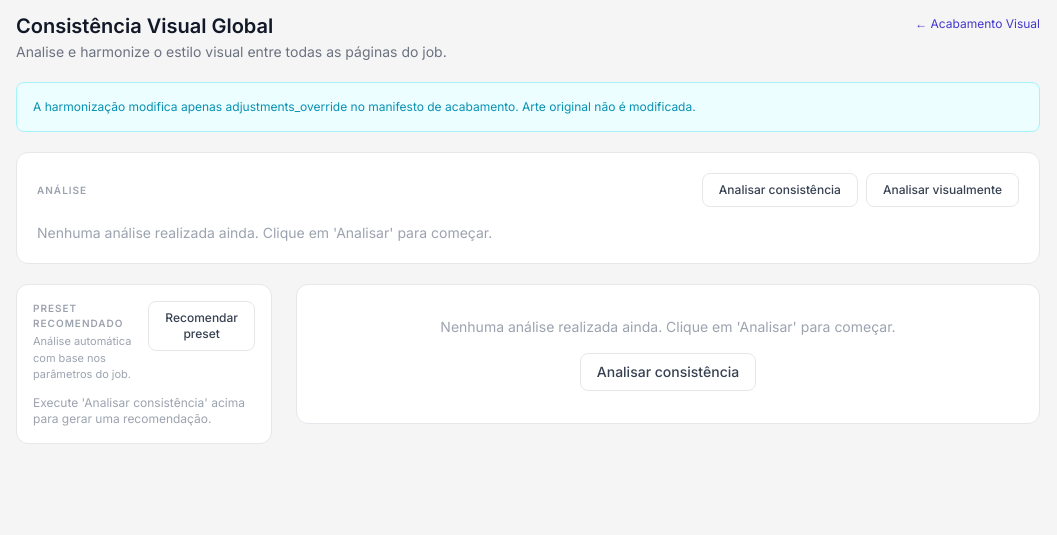
Test: ComicConsistencyPage — Fase O › exibe opError de acabamento obrigatório quando analyze retorna 404
Click the 1st button "Analisar consistência" at point(780, 190), box left=702, top=173, right=858, bottom=207
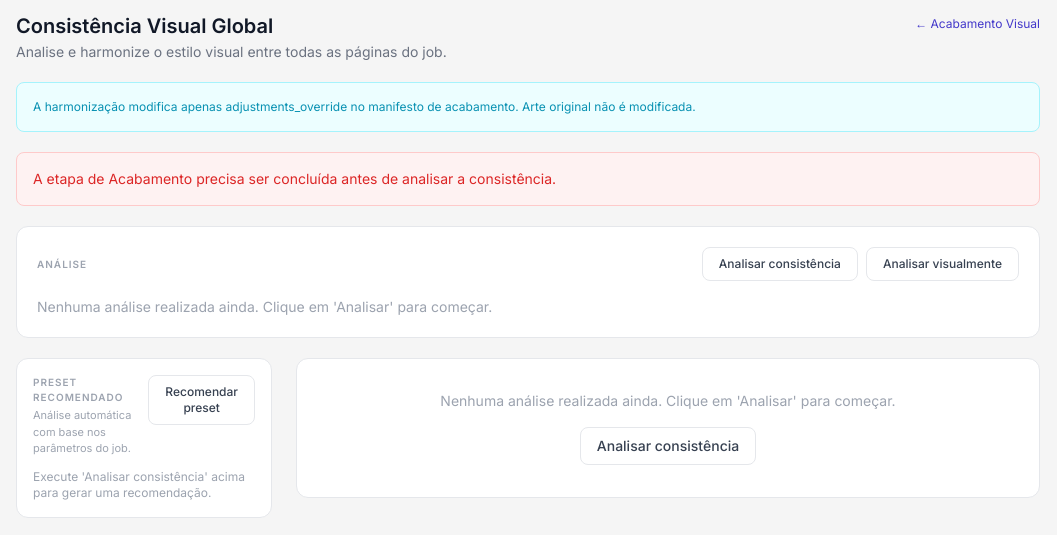
Now the text "A etapa de Acabamento precisa ser concluída antes de analisar a consistência." is shown, box left=16, top=152, right=1040, bottom=206
